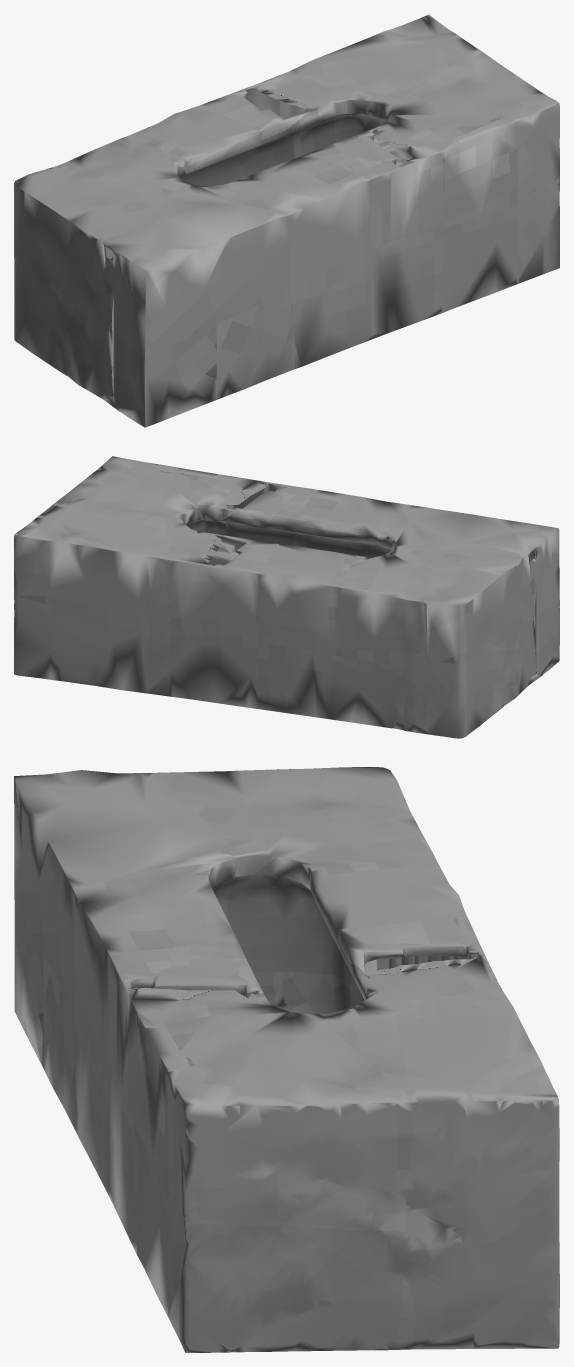
The model's file is m_tissue_box.glb.
The picture shows the model from 3 angles, top to bottom: view 1: azimuth 30°, elevation 25°; view 2: azimuth 150°, elevation 25°; view 3: azimuth 270°, elevation 25°; orthographic projection. The views are drawn at different scales.
Parts seen in each view (by area): view 1: tripo_node_f7741f63-2014-4228-9576-e41c92189d4f; view 2: tripo_node_f7741f63-2014-4228-9576-e41c92189d4f; view 3: tripo_node_f7741f63-2014-4228-9576-e41c92189d4f.
Boxes of the visible parts, <box> form: tripo_node_f7741f63-2014-4228-9576-e41c92189d4f: <box>14,14,559,427</box>; tripo_node_f7741f63-2014-4228-9576-e41c92189d4f: <box>14,456,559,738</box>; tripo_node_f7741f63-2014-4228-9576-e41c92189d4f: <box>14,767,559,1352</box>.
Size of the model in its own units: 1 by 0.3374 by 0.6516.
Materials: 1 (1 with a texture image).
